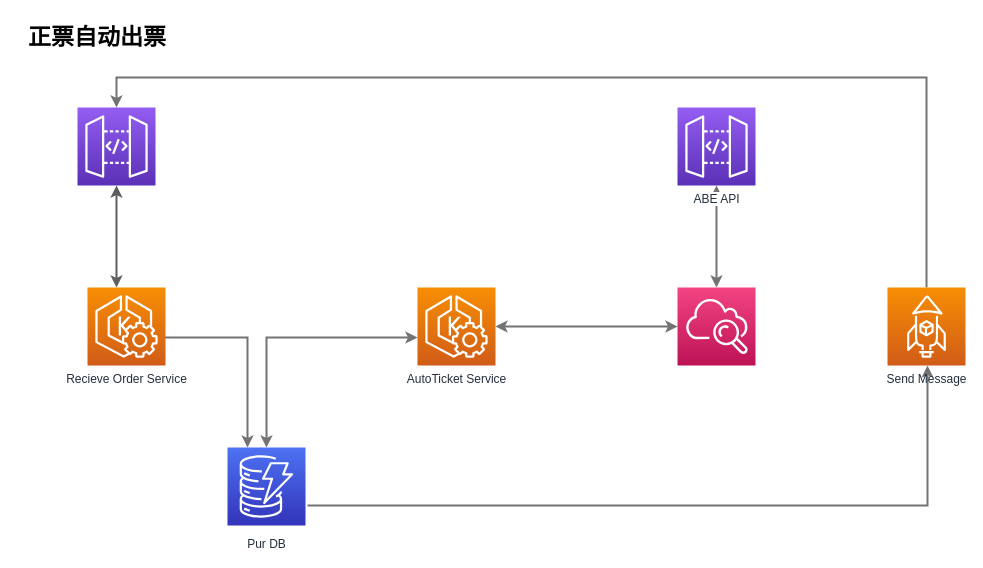
This 983x568 diagram has some shape labels left out. The centre of each missing label's shape, as x and y in pixels:
"AOIS API" belongs at pixel 116 146.
"Pur Cloud" belongs at pixel 716 326.
